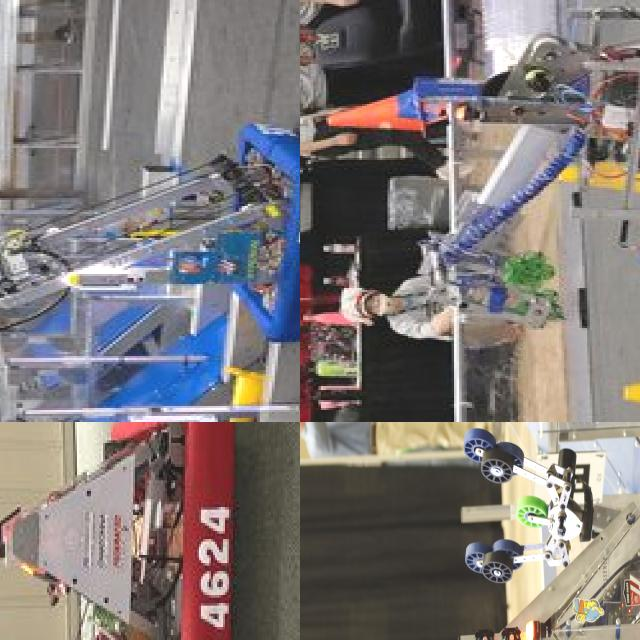FRC-Robots: (369, 0, 640, 375), (0, 106, 300, 422), (0, 422, 259, 640), (449, 422, 640, 640)
